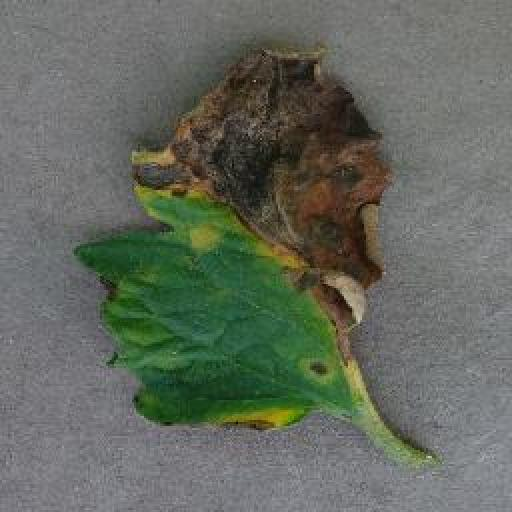Early Blight: (74, 44, 393, 435)
